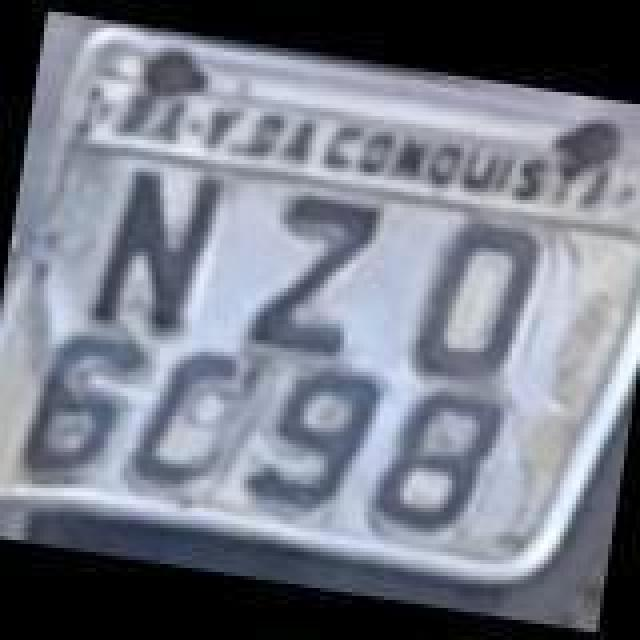6: (18, 314, 142, 486)
8: (372, 362, 508, 550)
9: (238, 338, 386, 526)
N: (88, 158, 224, 346)
O: (400, 204, 544, 388), (128, 328, 256, 504)
Z: (244, 186, 380, 366)
